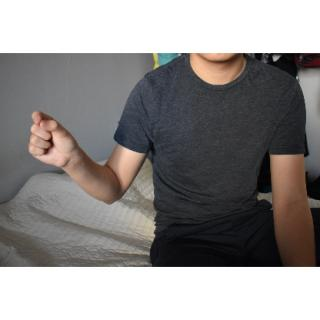FAA: (21, 104, 83, 178)
